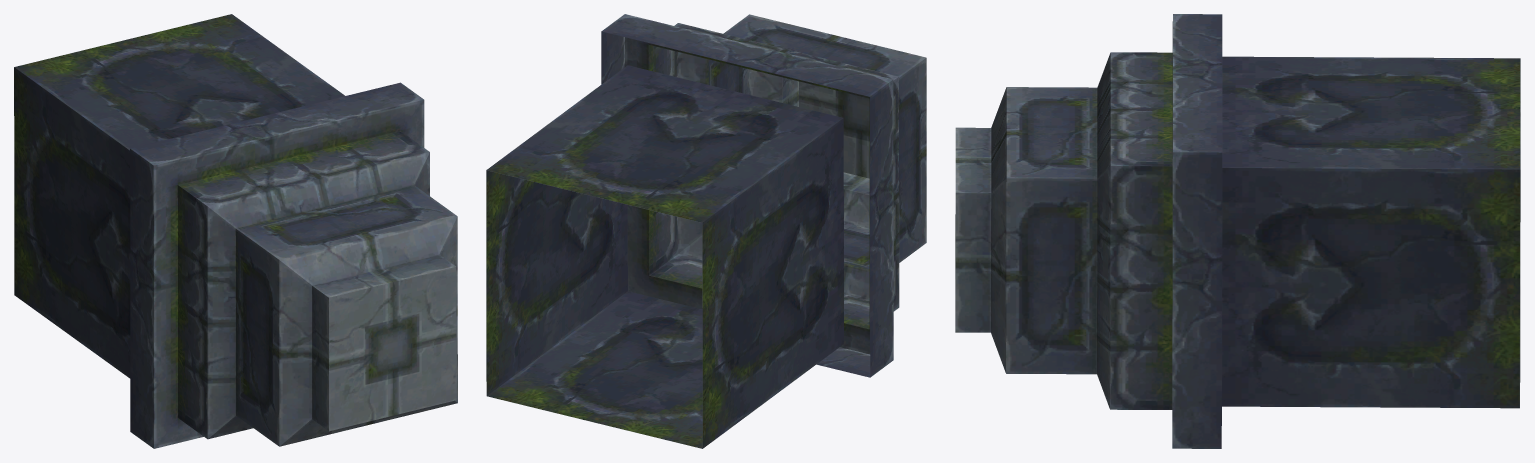
The model's file is huodong_fuben_234_zhuzi_02.obj.
The picture shows the model from 3 angles, left to right: view 1: azimuth 30°, elevation 25°; view 2: azimuth 150°, elevation 25°; view 3: azimuth 270°, elevation 25°; orthographic projection. The views are drawn at different scales.
Visible parts, largest first — view 1: huodong_fuben_234_zhuzi_02; view 2: huodong_fuben_234_zhuzi_02; view 3: huodong_fuben_234_zhuzi_02.
Part boxes in pixels (box(x1,y1,x2,y2)): huodong_fuben_234_zhuzi_02: box(14, 14, 457, 448); huodong_fuben_234_zhuzi_02: box(486, 14, 926, 448); huodong_fuben_234_zhuzi_02: box(955, 14, 1520, 448).
Bounding box in the file's own units: 376 × 376 × 649.
Materials: 1 (1 with a texture image).
